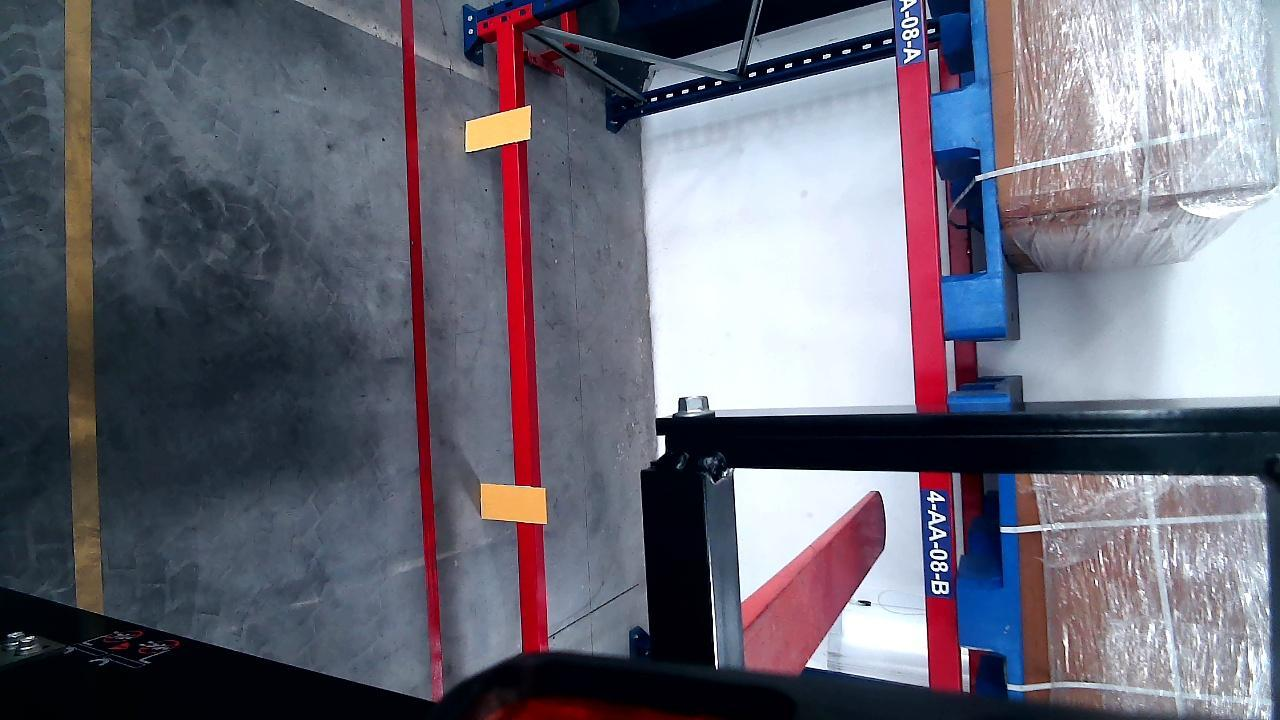yellow_line: (63, 0, 101, 615)
